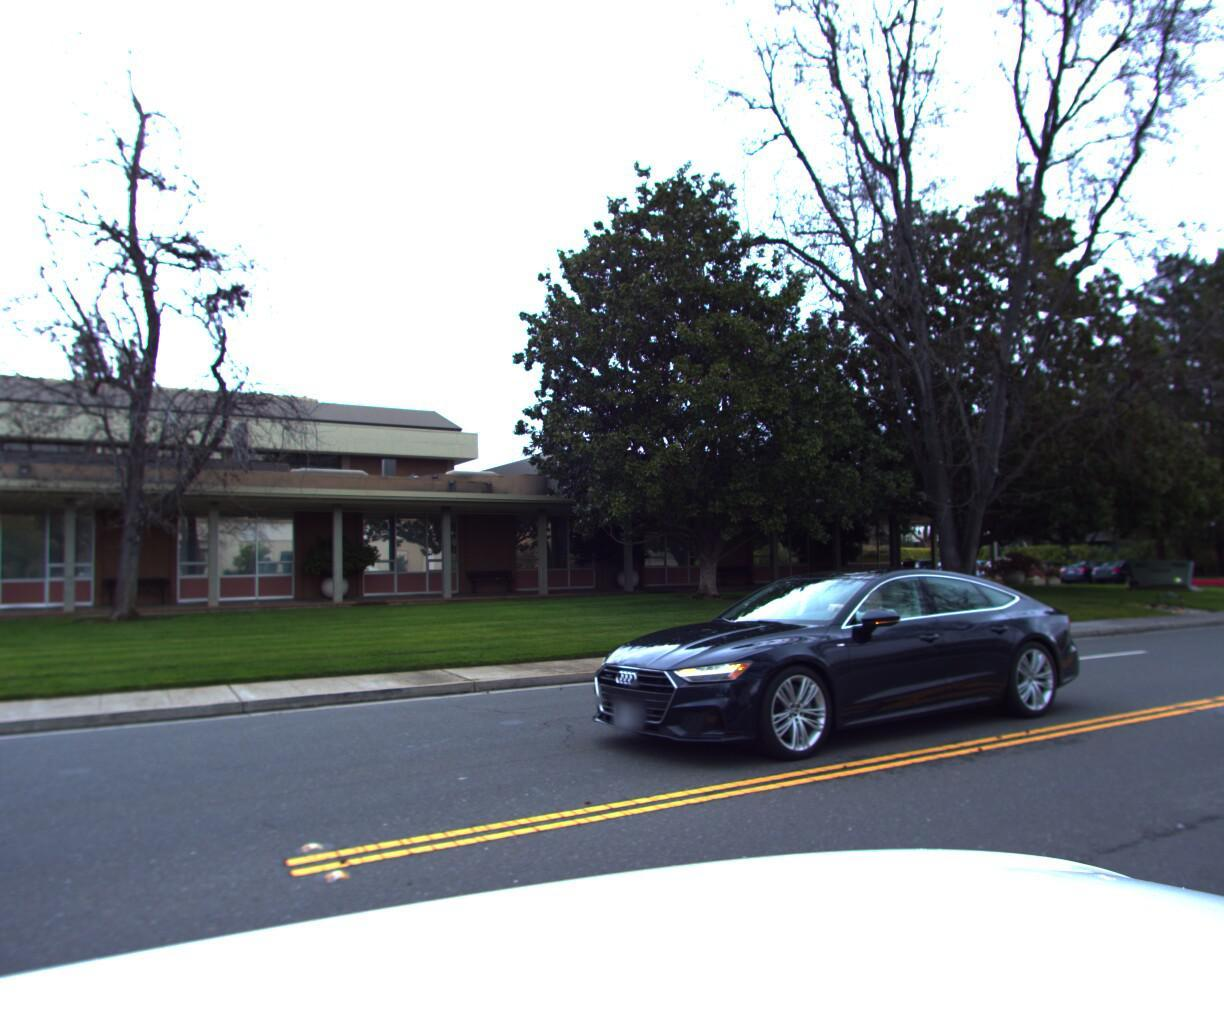car: (557, 560, 1109, 790)
